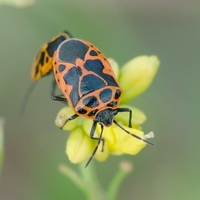insect: (31, 32, 159, 163)
